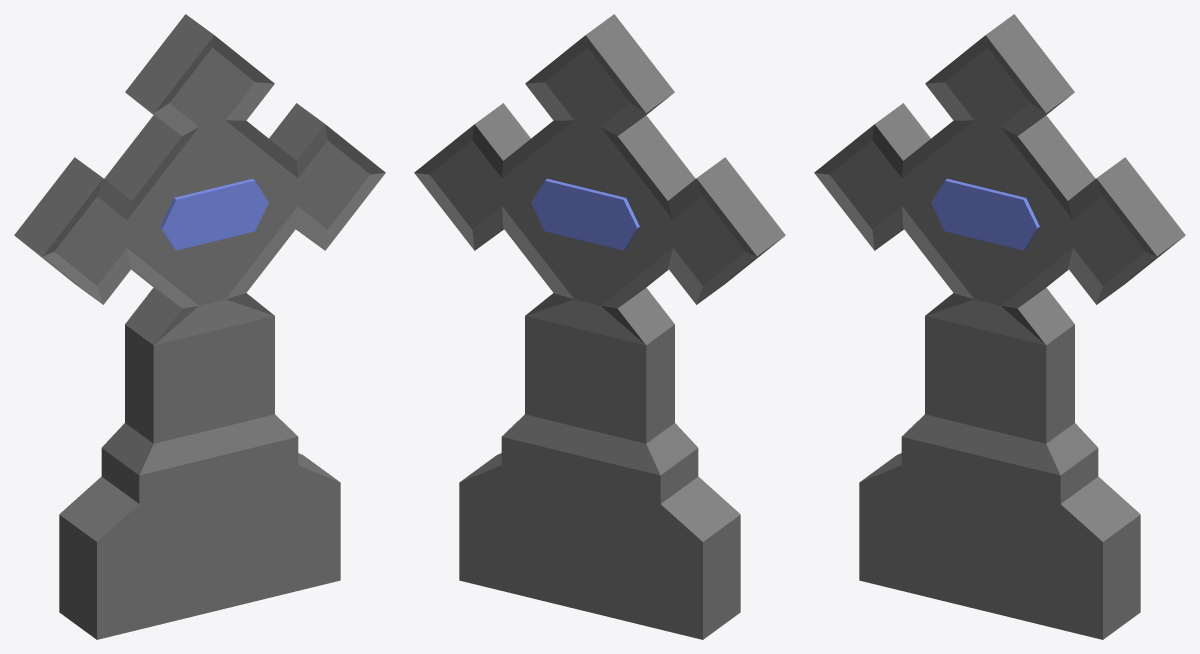
Rendered from SM_Grave_03.fbx.
3 views of the same model, side by side, from view 1: azimuth 30°, elevation 25°; view 2: azimuth 150°, elevation 25°; view 3: azimuth 330°, elevation 25° (orthographic).
Visible parts, largest first — view 1: Box006; view 2: Box006; view 3: Box006.
Part boxes in pixels (x1=…): Box006: x1=14, y1=14, x2=385, y2=639; Box006: x1=414, y1=14, x2=785, y2=639; Box006: x1=814, y1=14, x2=1185, y2=639.
Bounding box in the file's own units: 76.03 × 121 × 14.52.
